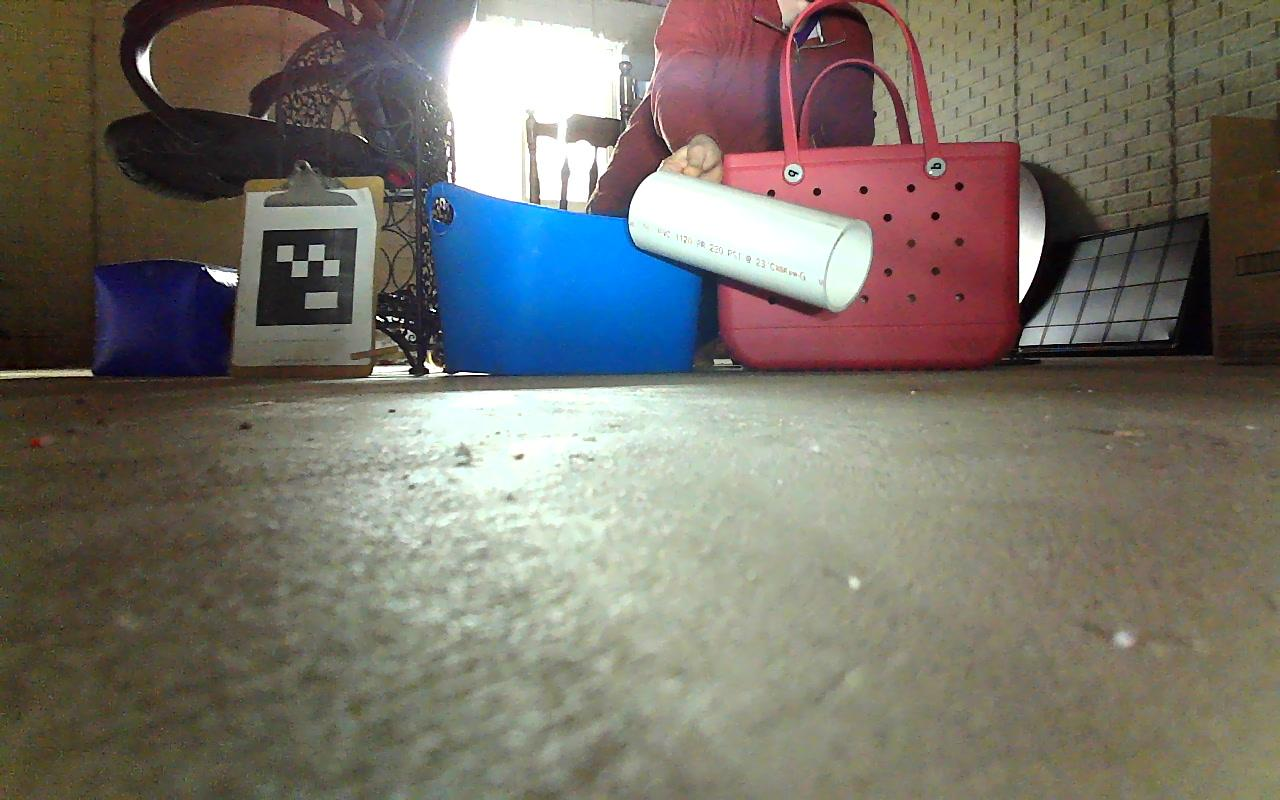coral: (626, 174, 878, 315)
